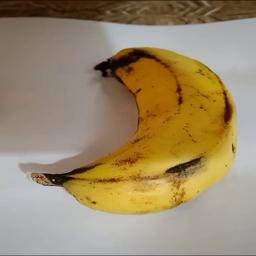Banana Semifresh: (23, 44, 237, 219)
